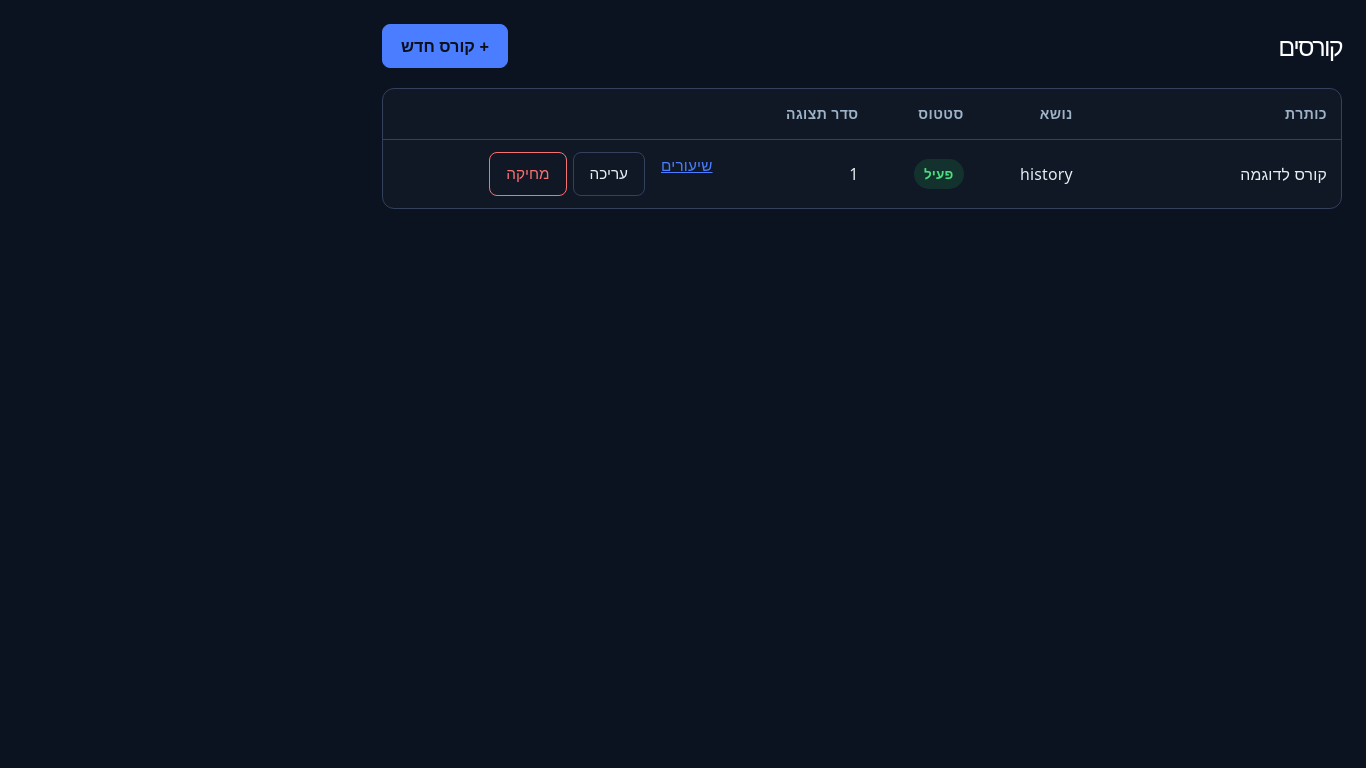
Test: AdminCourses › opens the create form as a real modal dialog, not just an inline panel
Click the button "+ קורס חדש" at (445, 46), box [382,24,508,68]
(page scrolled)
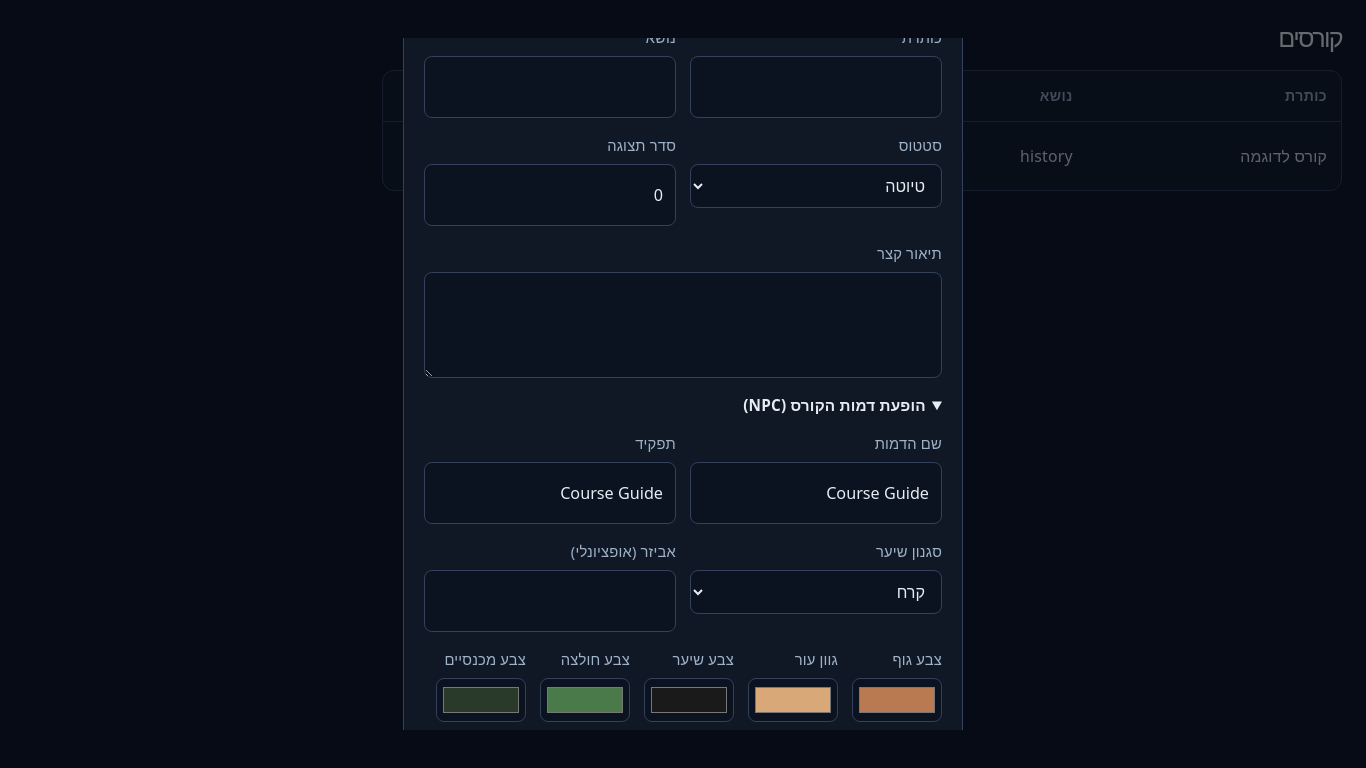
Expected: the element with test id "course-form" is shown, [403,38,963,730]
